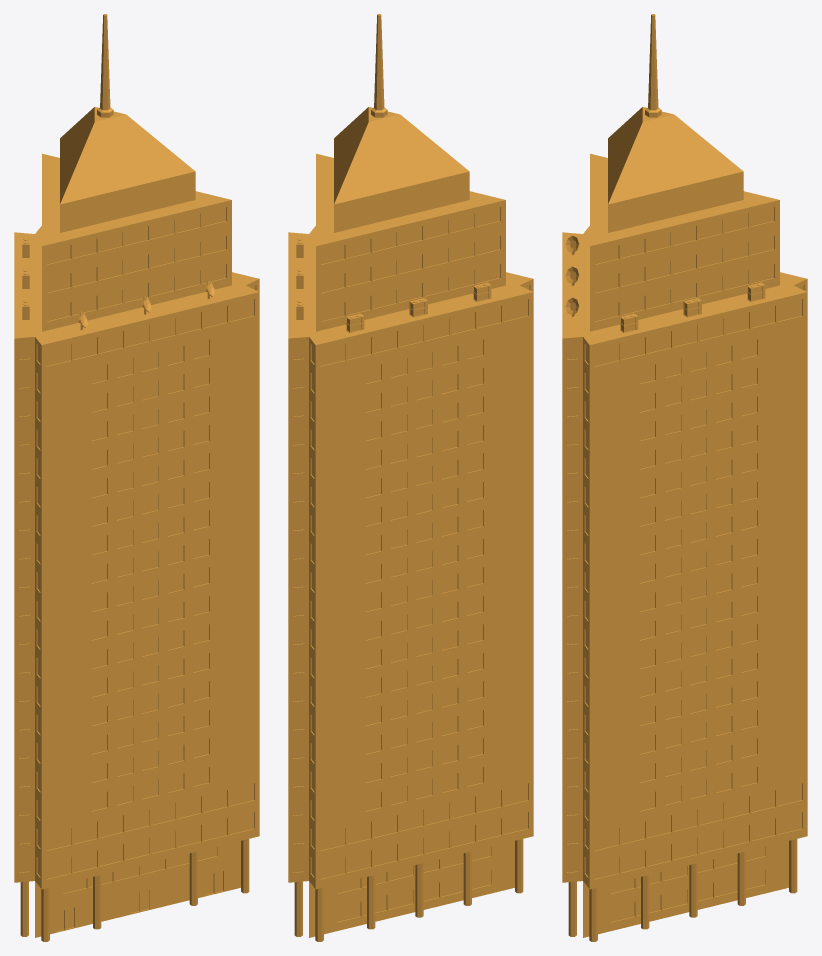
The model's file is building-skyscraper.fbx.
The picture shows the model from 3 angles, left to right: view 1: azimuth 30°, elevation 25°; view 2: azimuth 150°, elevation 25°; view 3: azimuth 270°, elevation 25°; orthographic projection.
Parts seen in each view (by area): view 1: building-skyscraper; view 2: building-skyscraper; view 3: building-skyscraper.
Boxes of the visible parts, box(x1,y1,x2,y2) form: building-skyscraper: box(14, 14, 259, 941); building-skyscraper: box(288, 14, 533, 941); building-skyscraper: box(562, 14, 807, 941).
Size of the model in its own units: 27 by 91.8 by 23.38.
